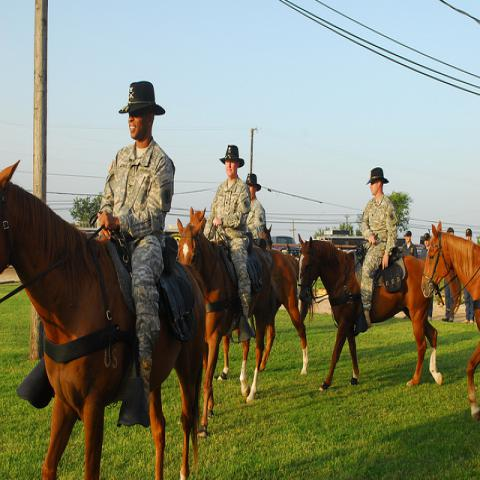car: (271, 235, 301, 255)
